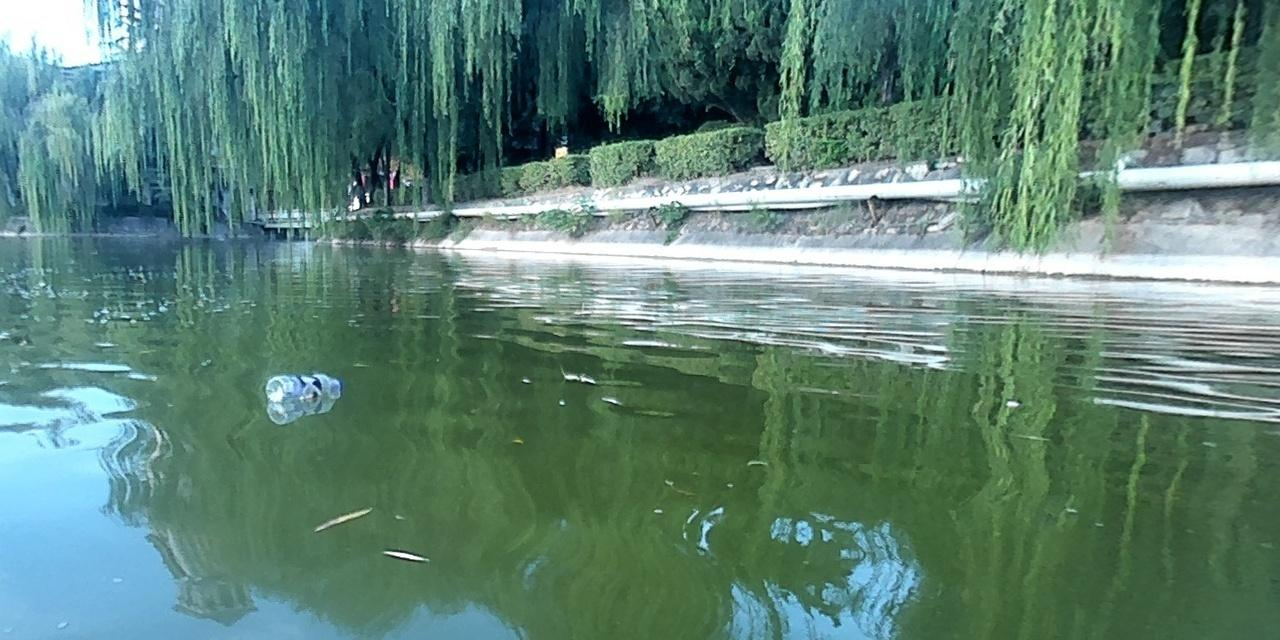bottle: (259, 369, 346, 404)
